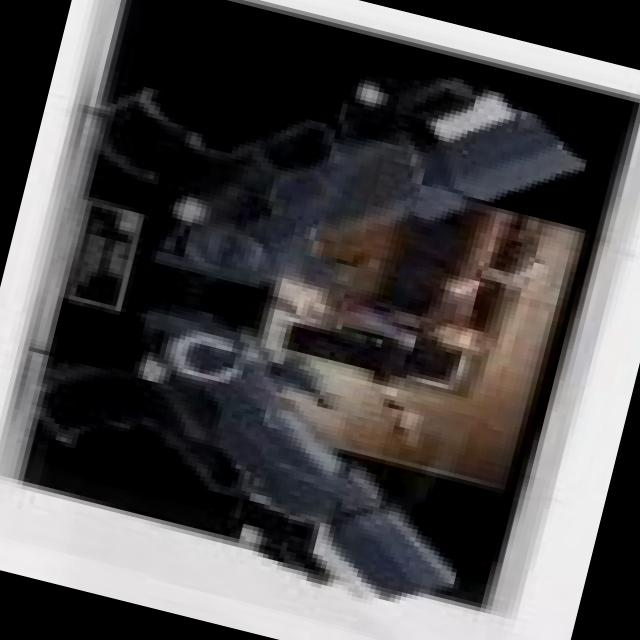handgun: (81, 0, 602, 355), (12, 304, 516, 612)
